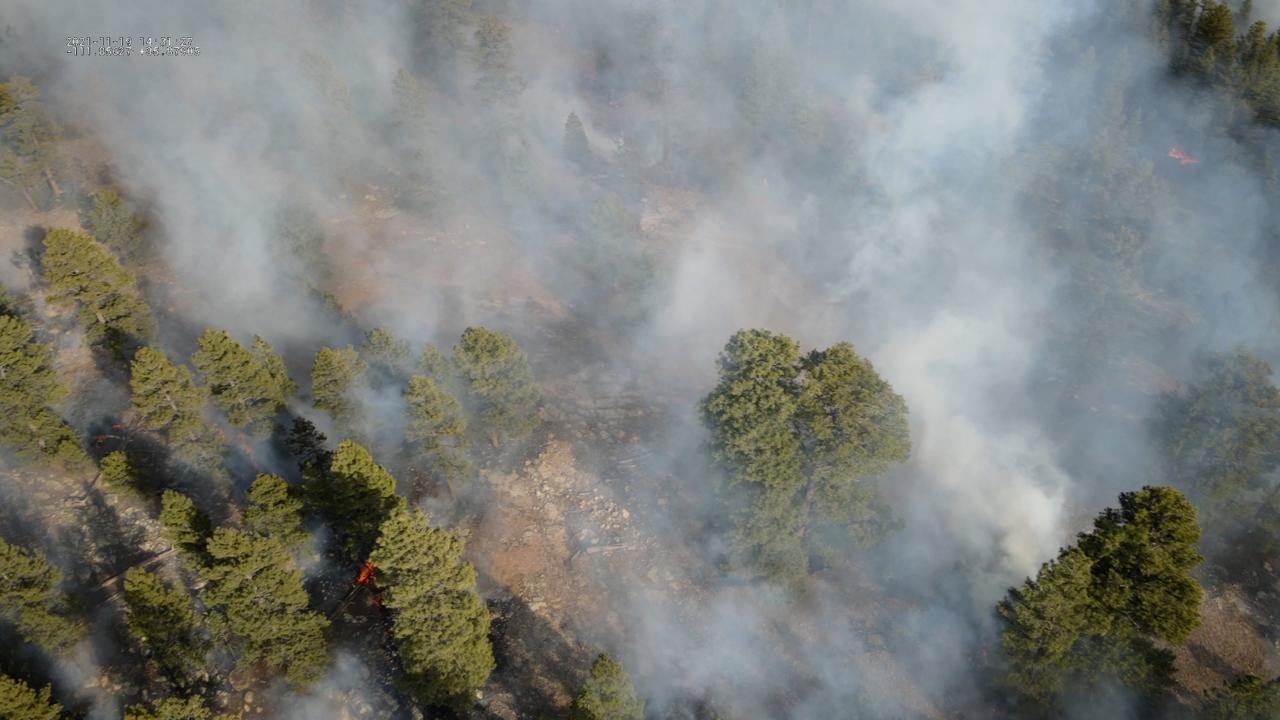fire: (1165, 147, 1200, 167), (354, 559, 377, 587), (234, 430, 253, 454), (95, 433, 107, 445), (374, 595, 384, 609), (110, 422, 123, 430)
smoke: (0, 0, 1280, 720)
